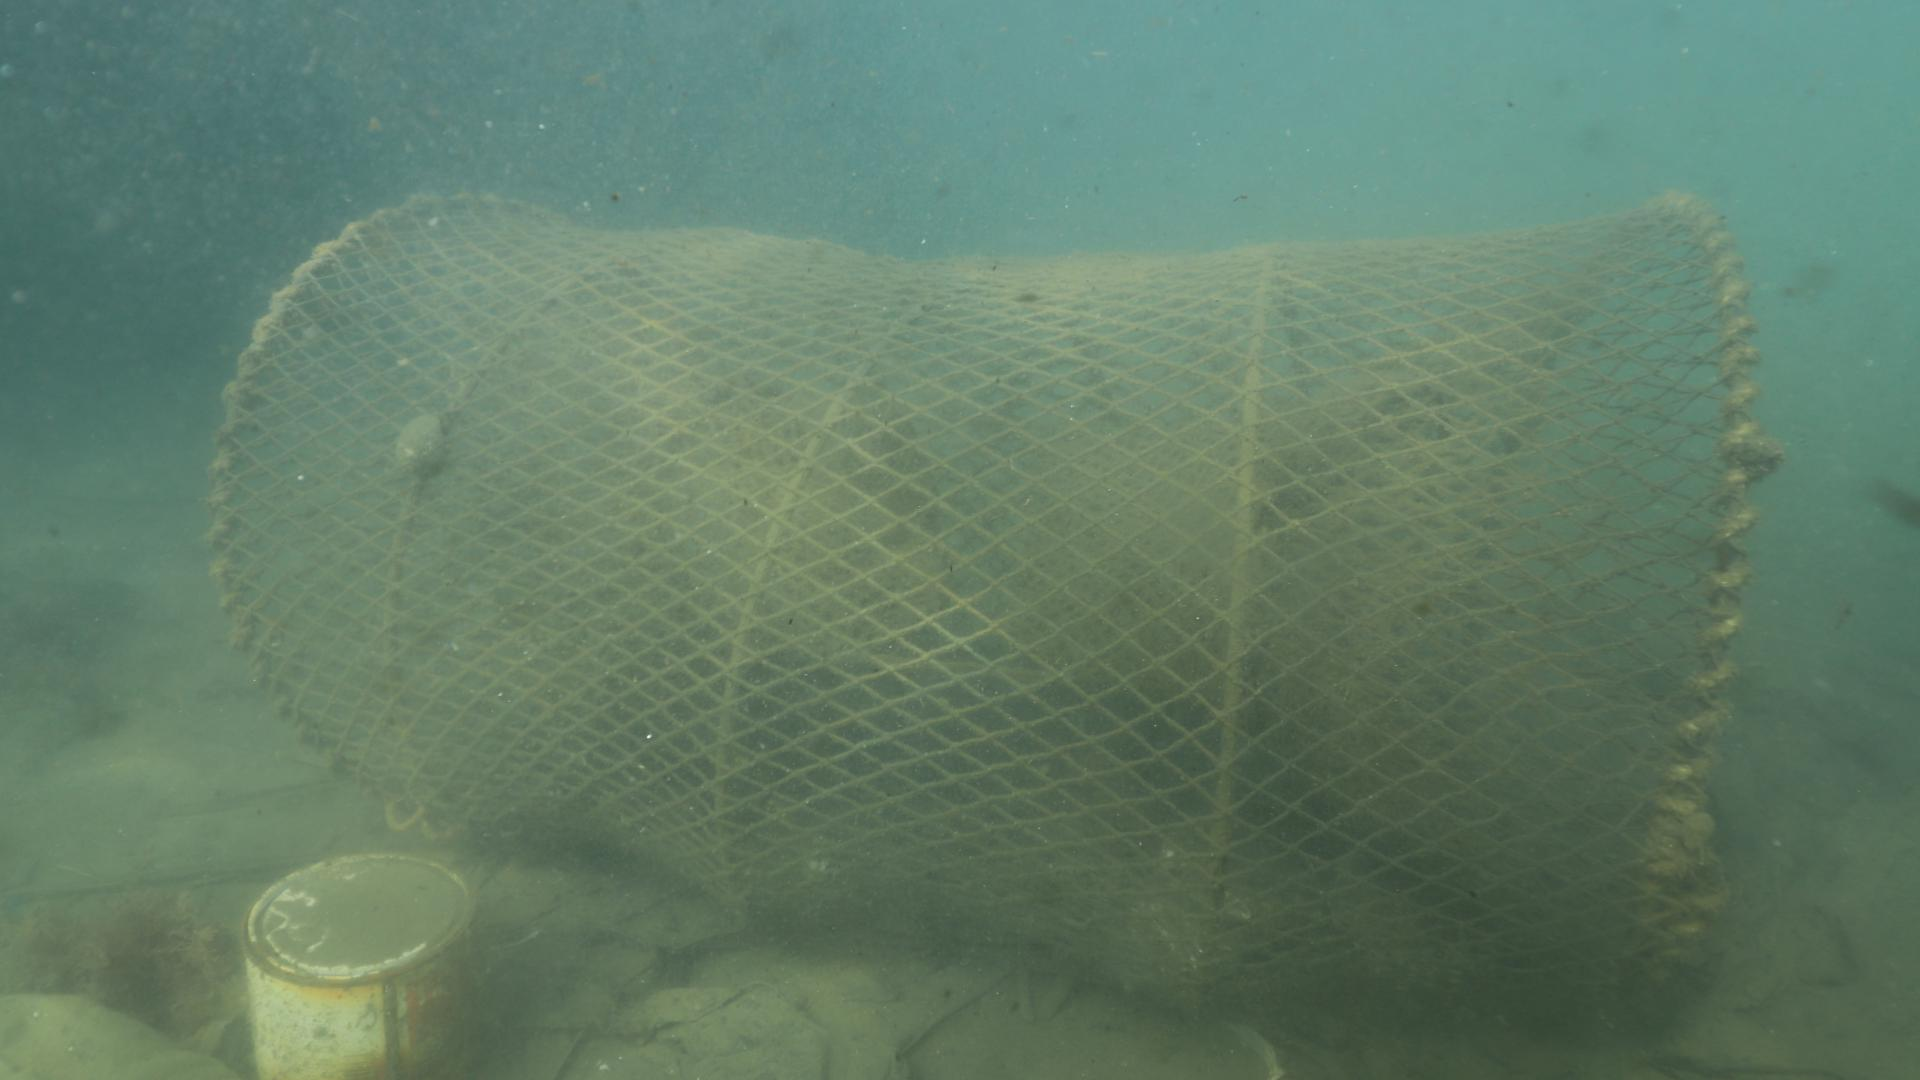spring fish trap: (199, 189, 1755, 998)
